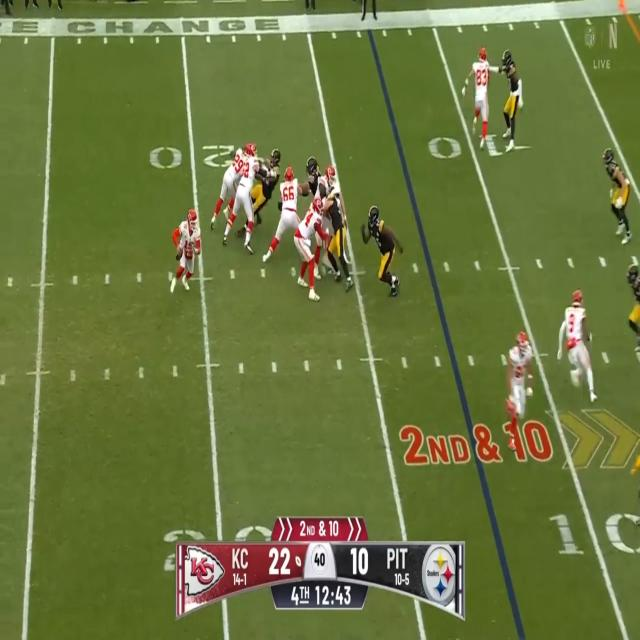Ball: (175, 246, 183, 262)
